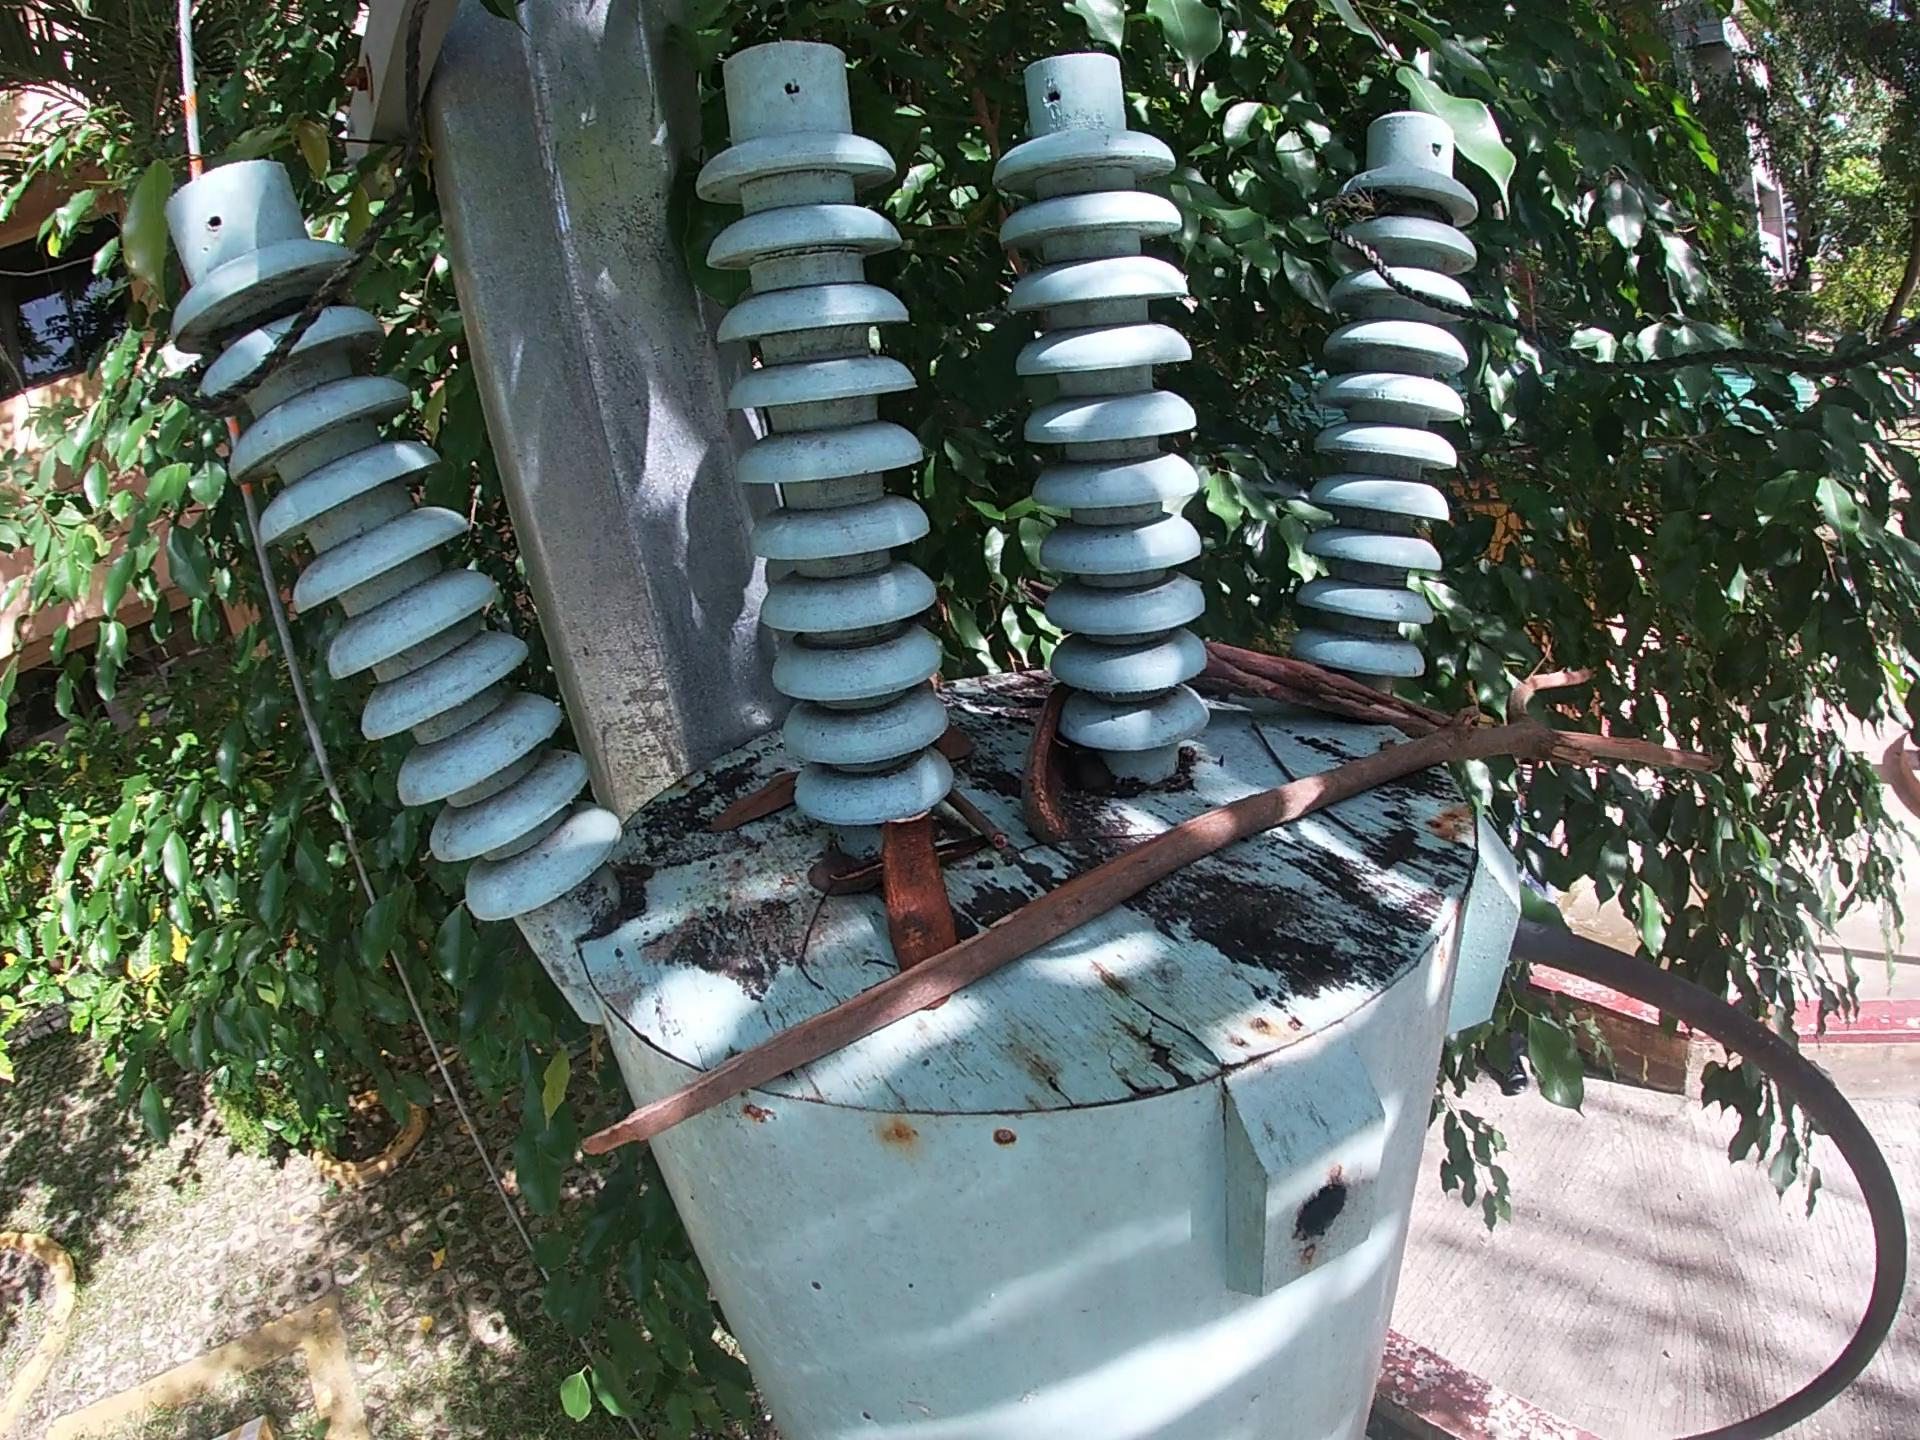leaf: (692, 768, 804, 841), (934, 725, 983, 770)
mahogany fruit: (872, 808, 965, 982), (1014, 682, 1082, 859)
tree branch: (574, 659, 1728, 1168), (1188, 638, 1560, 768), (942, 785, 1017, 855)
